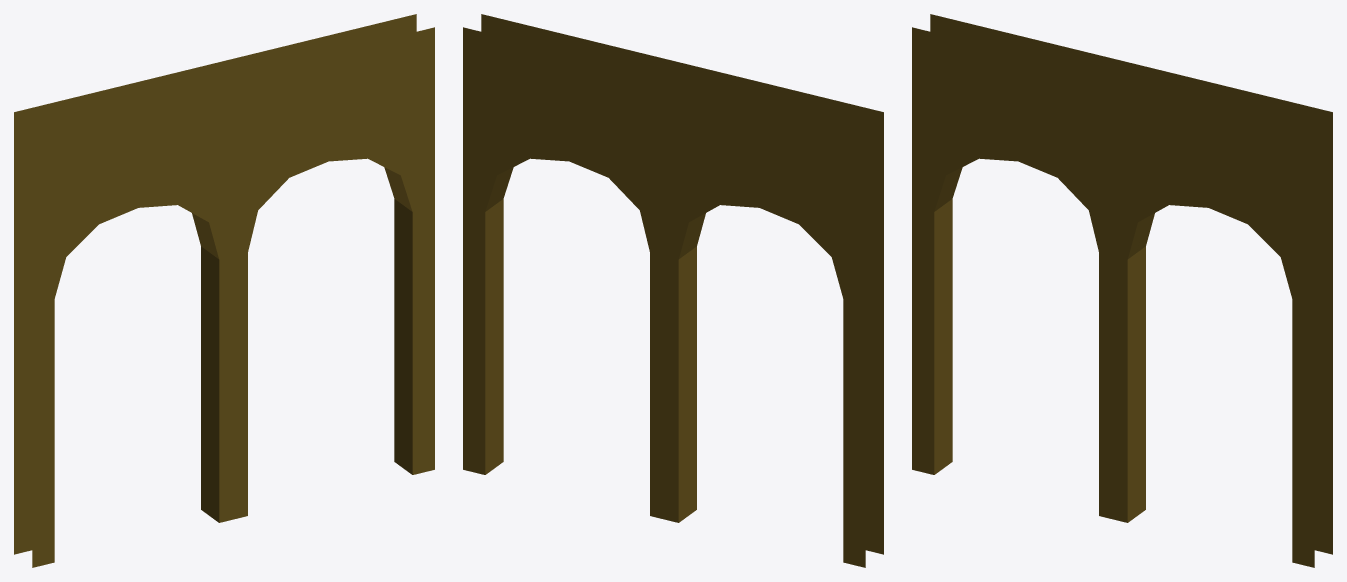
Rendered from Museum_Ark_02.fbx.
3 renders of one model, left to right at view 1: azimuth 30°, elevation 25°; view 2: azimuth 150°, elevation 25°; view 3: azimuth 330°, elevation 25°, orthographic.
Parts seen in each view (by area): view 1: Archi_Arches_02.002; view 2: Archi_Arches_02.002; view 3: Archi_Arches_02.002.
Part boxes in pixels (x1,y1,x2,y2): Archi_Arches_02.002: [14, 14, 434, 567]; Archi_Arches_02.002: [463, 14, 883, 567]; Archi_Arches_02.002: [912, 14, 1332, 567].
Bounding box in the file's own units: 523 × 551 × 40.99.
